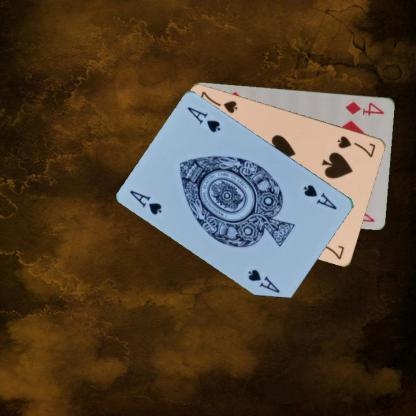4d: (344, 99, 386, 117)
7s: (334, 133, 378, 159)
As: (127, 187, 164, 216), (301, 182, 339, 210)
